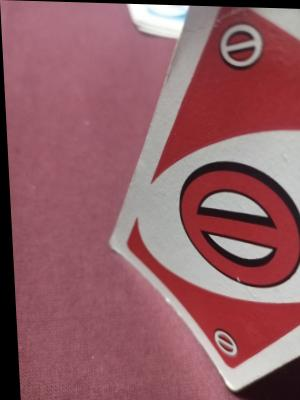skip: (169, 151, 300, 291), (215, 19, 271, 76), (206, 319, 243, 365)
